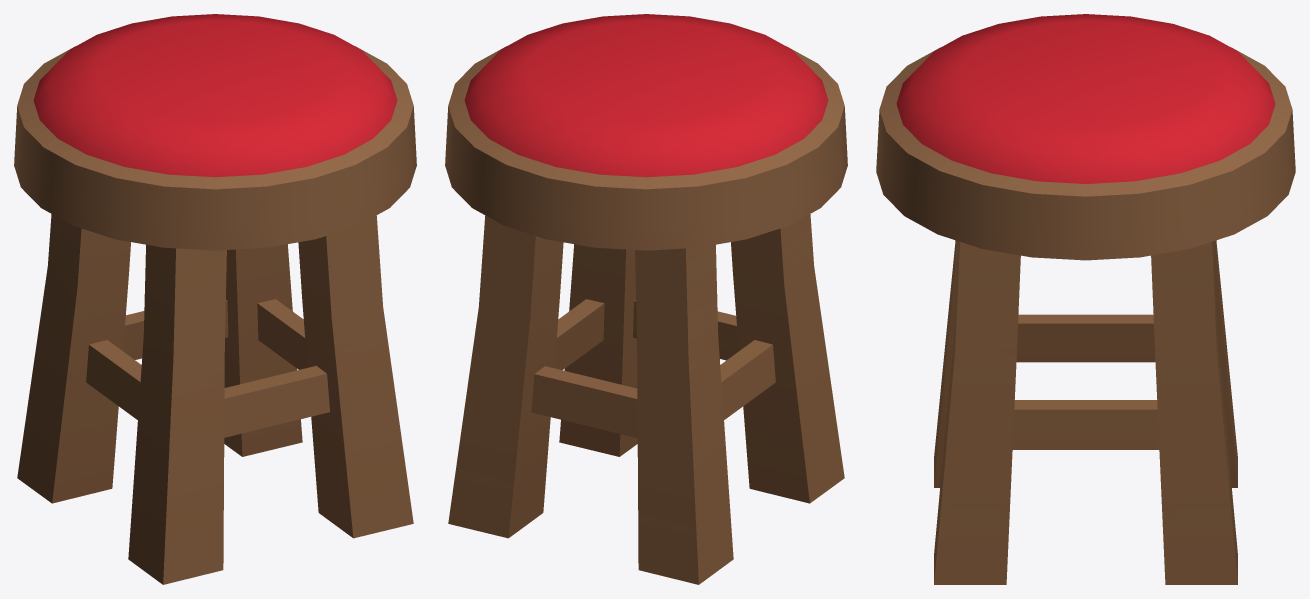
File: Stool.fbx
3 views of the same model, side by side, from view 1: azimuth 30°, elevation 25°; view 2: azimuth 150°, elevation 25°; view 3: azimuth 270°, elevation 25° (orthographic). The views are drawn at different scales.
Visible parts, largest first — view 1: Stool; view 2: Stool; view 3: Stool.
Boxes of the visible parts, box(x1,y1,x2,y2) form: Stool: box(14, 14, 416, 584); Stool: box(445, 14, 847, 584); Stool: box(876, 14, 1295, 584).
Size of the model in its own units: 40.29 by 47.36 by 40.29.
